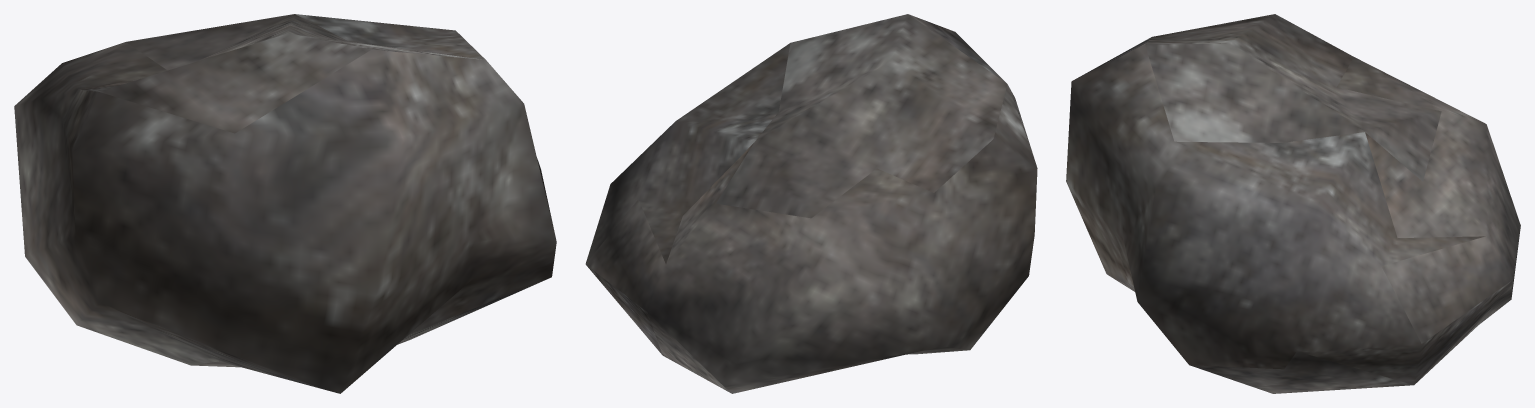
File: N_Rock_17.fbx
The picture shows the model from 3 angles, left to right: view 1: azimuth 30°, elevation 25°; view 2: azimuth 150°, elevation 25°; view 3: azimuth 270°, elevation 25°; orthographic projection. The views are drawn at different scales.
Parts seen in each view (by area): view 1: Mid_Rock_1; view 2: Mid_Rock_1; view 3: Mid_Rock_1.
Boxes of the visible parts, x1=… form: Mid_Rock_1: x1=14, y1=14, x2=556, y2=393; Mid_Rock_1: x1=585, y1=14, x2=1037, y2=393; Mid_Rock_1: x1=1066, y1=14, x2=1520, y2=393.
Bounding box in the file's own units: 145 × 106 × 144.
